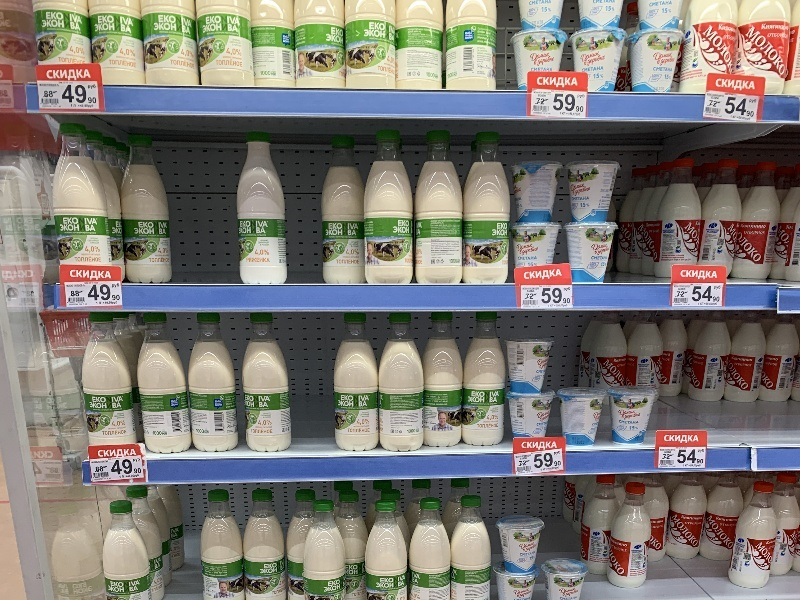milk: (312, 133, 379, 287), (230, 129, 292, 291), (360, 127, 421, 289), (132, 311, 198, 457), (48, 122, 112, 271), (118, 131, 177, 290), (408, 127, 466, 287), (180, 310, 242, 458), (237, 311, 300, 456), (76, 313, 143, 447), (461, 129, 513, 290), (328, 311, 386, 454), (416, 311, 470, 455), (377, 311, 427, 456), (652, 154, 713, 272), (463, 311, 511, 453), (725, 483, 783, 592), (238, 487, 291, 598), (736, 156, 782, 280), (197, 487, 248, 598), (444, 495, 496, 599), (607, 480, 655, 590), (721, 311, 769, 405), (302, 500, 348, 597), (690, 309, 737, 402), (409, 496, 452, 597), (701, 155, 739, 269), (755, 312, 800, 405)
